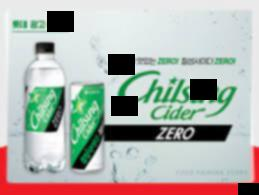chilsungcider_zero: (71, 81, 105, 173)
